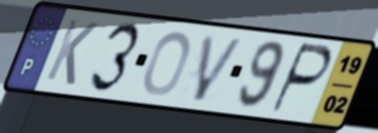3: (86, 20, 145, 95)
9: (237, 39, 287, 111)
K: (42, 17, 101, 89)
O: (142, 29, 193, 98)
P: (267, 40, 335, 116)
V: (190, 32, 248, 105)
